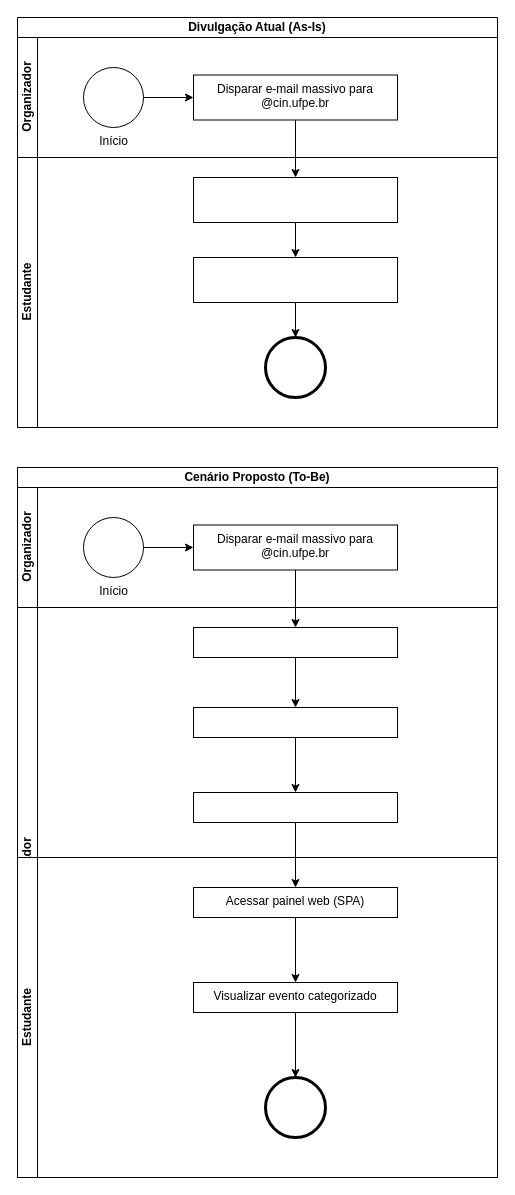
The diagram is 515 pixels wide and 1195 high, and some of its shapes have lost their labels. Here are the shapes that lost their labels. From the top down, the centre of each, then its label:
[295,199]: Receber e-mail na caixa de entrada lotada
[295,279]: E-mail se perde em meio a outros avisos e a off-topics
[295,367]: Fim: Estudante perde a oportunidade
[295,642]: Busca e-mails via Gmail API
[295,722]: Extrair dados estruturados via IA
[295,807]: Persistir evento no Banco de Dados
[295,1107]: Fim: Estudante participa do evento
